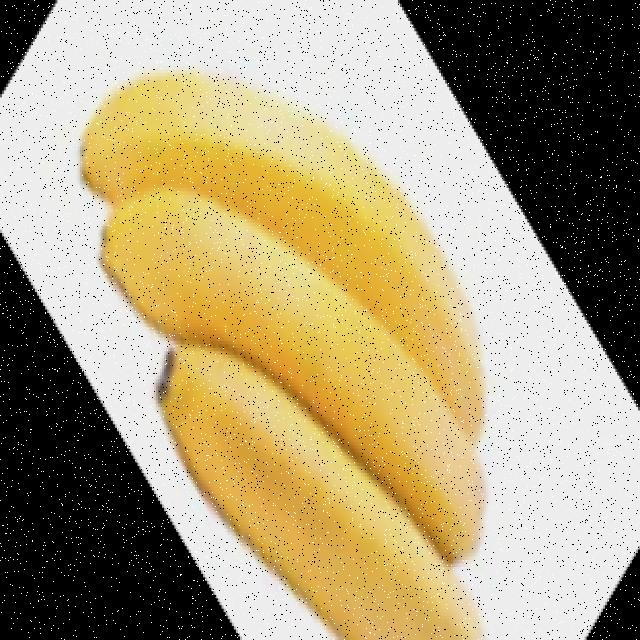god quality banana: (80, 73, 482, 638)
